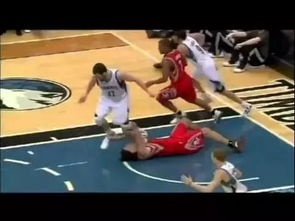falling: (115, 110, 248, 162)
